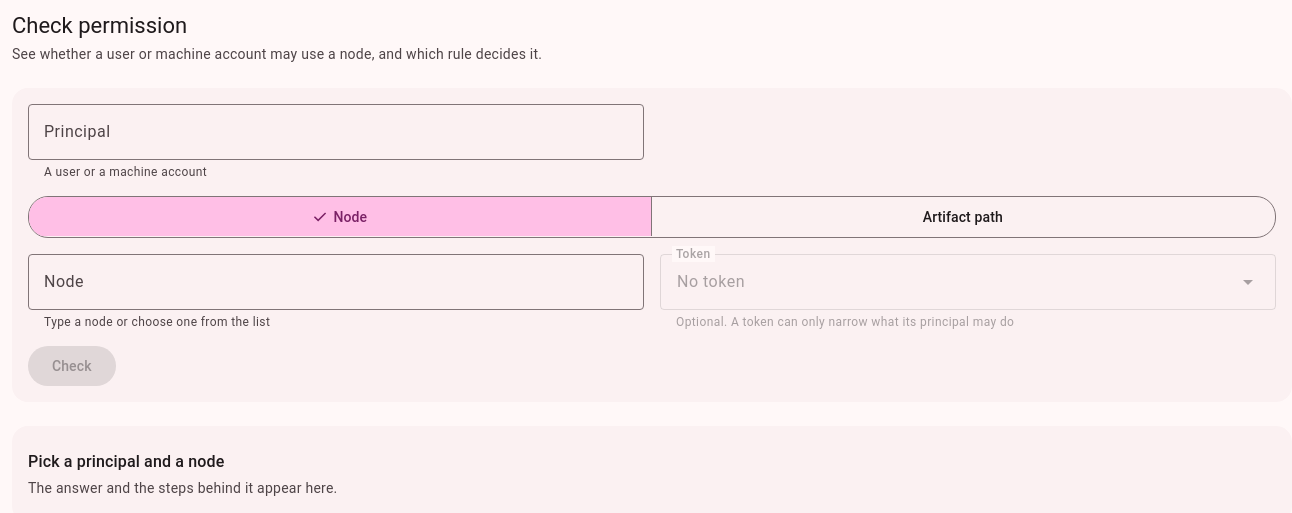
Test case: CheckPermissionView › the pickers › takes a principal from the list with the keyboard
This screenshot has width=1292, height=513.
Focus the dropdown labelled "Principal": (336, 132) x1=28 y1=104 x2=644 y2=160
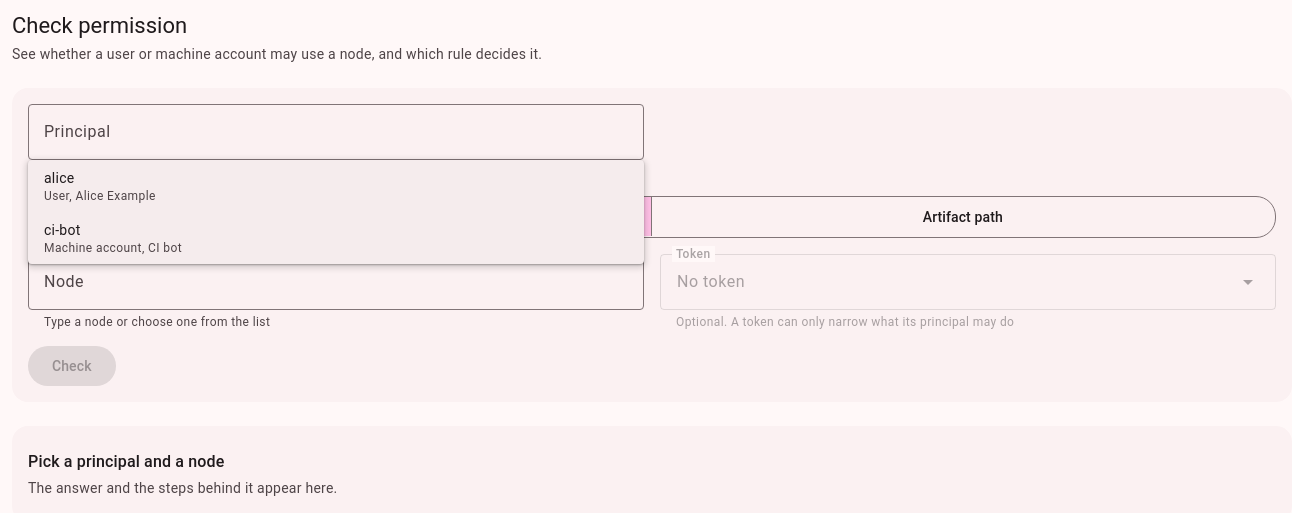
Press ArrowDown in the dropdown labelled "Principal", box x1=28 y1=104 x2=644 y2=160
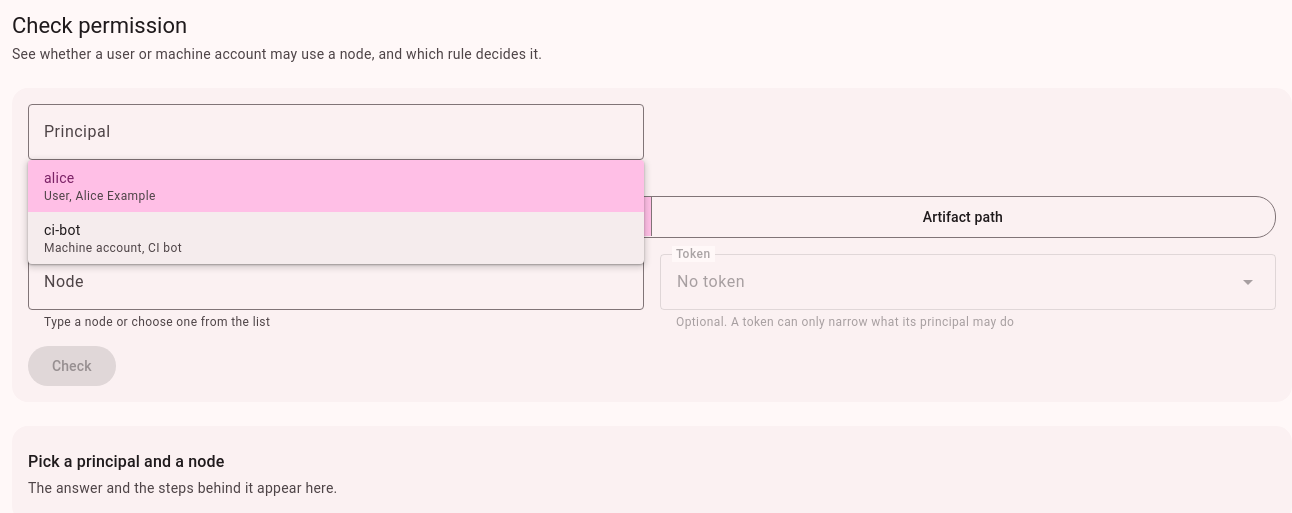
Press ArrowDown in the dropdown labelled "Principal", box x1=28 y1=104 x2=644 y2=160
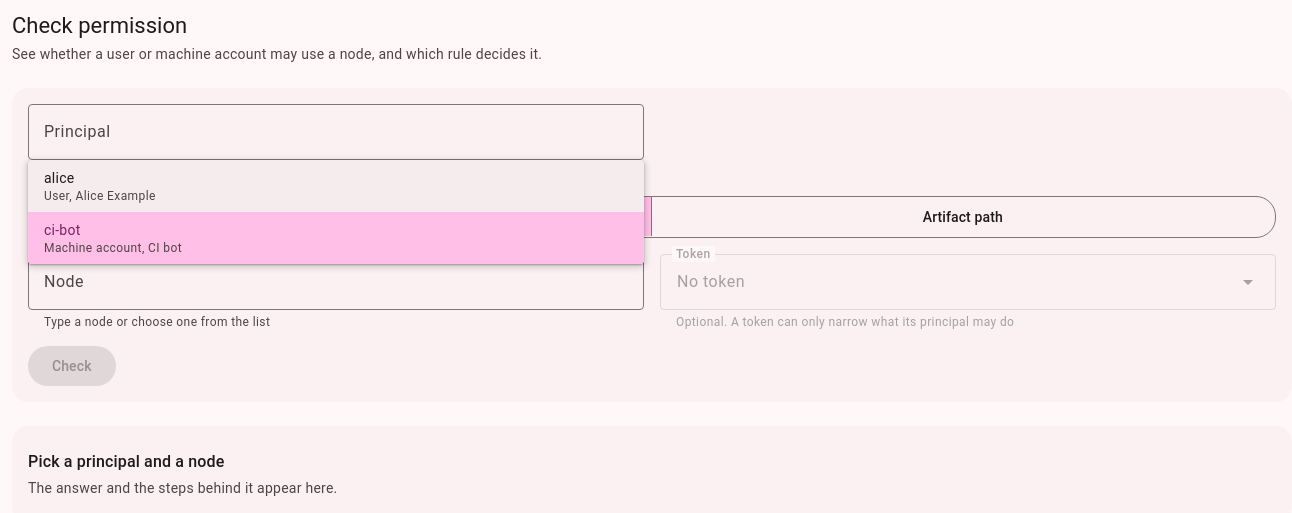
Press Enter in the dropdown labelled "Principal", box x1=28 y1=104 x2=644 y2=160
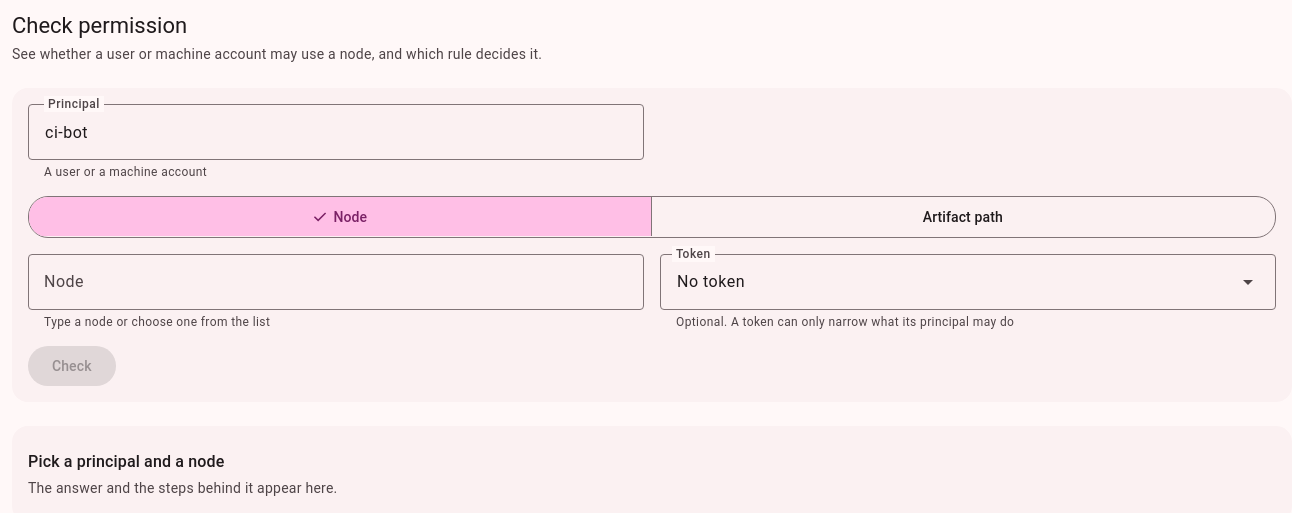
Result: the dropdown labelled "Principal" holds "ci-bot" at x1=28 y1=104 x2=644 y2=160
